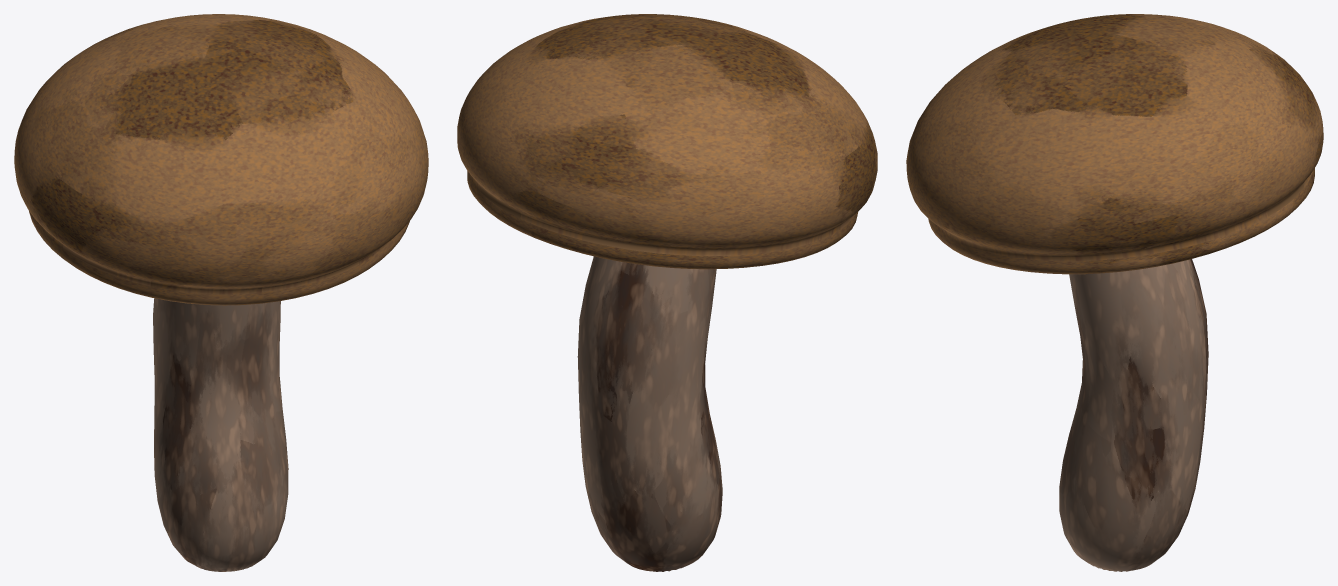
The model's file is base_grib.fbx.
3 renders of one model, left to right at view 1: azimuth 30°, elevation 25°; view 2: azimuth 150°, elevation 25°; view 3: azimuth 270°, elevation 25°, orthographic.
Parts seen in each view (by area): view 1: Cylinder.042; view 2: Cylinder.042; view 3: Cylinder.042.
Part boxes in pixels (bbox=[...]): Cylinder.042: bbox=[14, 14, 428, 571]; Cylinder.042: bbox=[457, 14, 877, 571]; Cylinder.042: bbox=[906, 14, 1323, 571].
Size of the model in its own units: 205 by 281 by 204.
